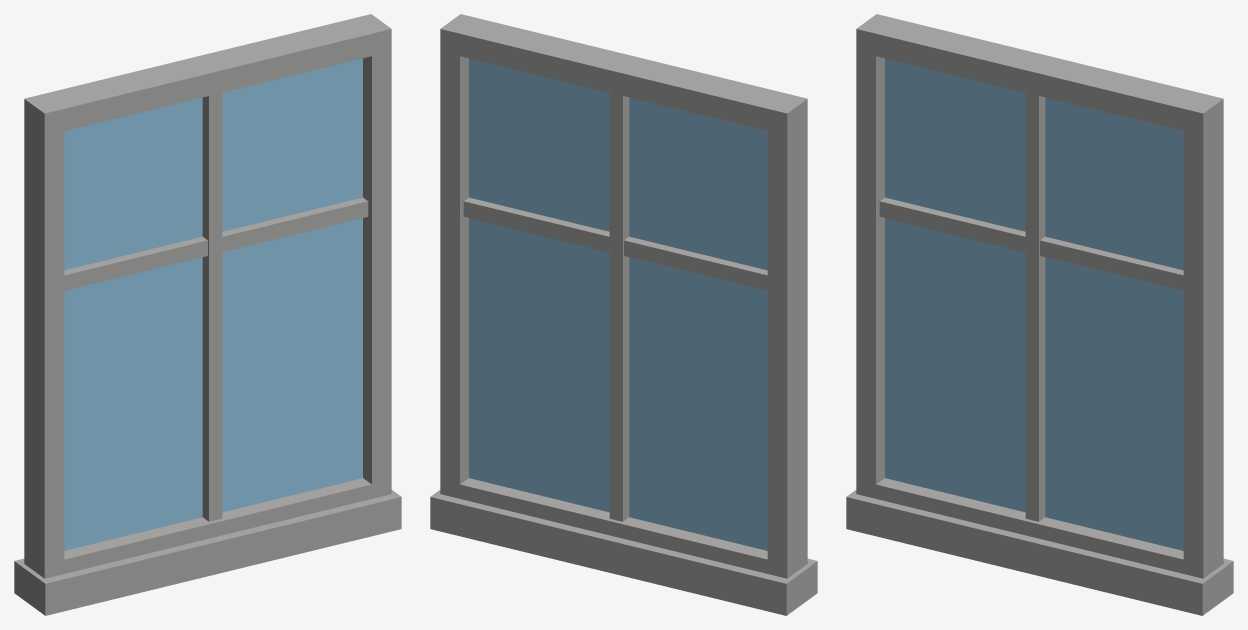
The model's file is Window_Small2.glb.
3 views of the same model, side by side, from view 1: azimuth 30°, elevation 25°; view 2: azimuth 150°, elevation 25°; view 3: azimuth 330°, elevation 25° (orthographic).
Visible parts, largest first — view 1: Window_Small2; view 2: Window_Small2; view 3: Window_Small2.
Boxes of the visible parts, left/top/right/bottom form: Window_Small2: left=14, top=14, right=401, bottom=615; Window_Small2: left=430, top=14, right=817, bottom=615; Window_Small2: left=846, top=14, right=1233, bottom=615.
Size of the model in its own units: 0.9282 by 1.24 by 0.1411.
